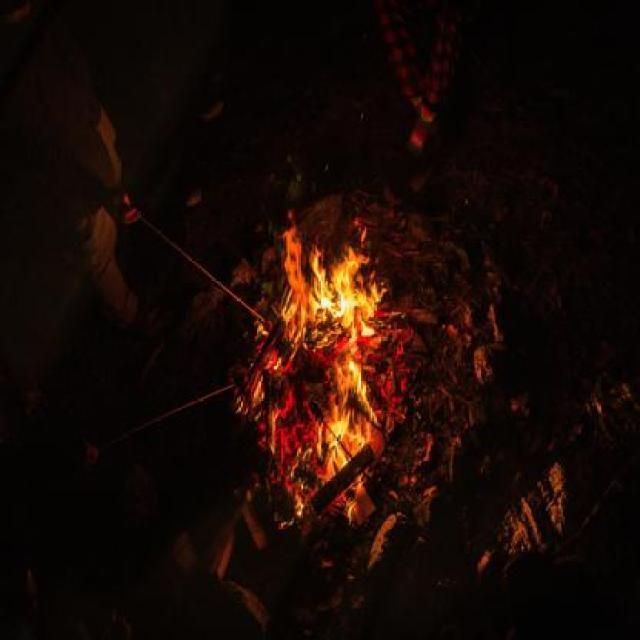Fire: (272, 212, 389, 528)
